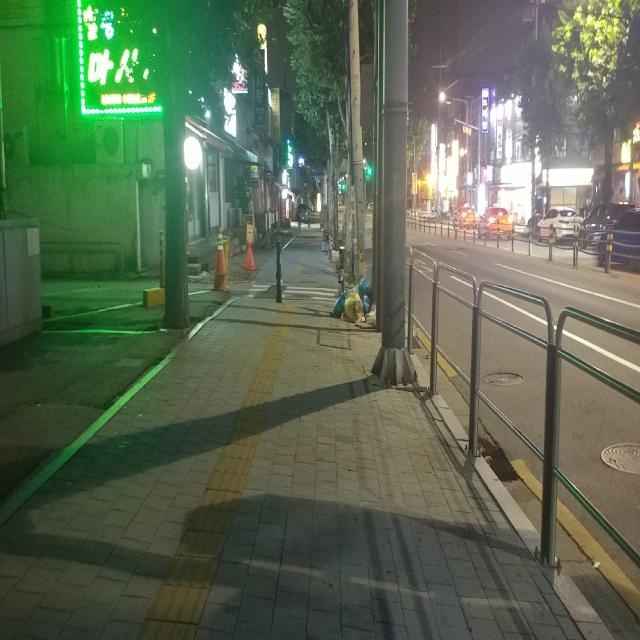횡단보도: (244, 283, 347, 302)
